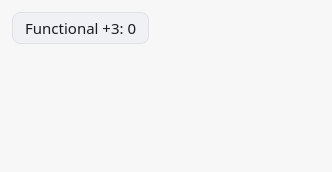
Test: functional state updates › updater functions chain: +3 is +3
Click the button. click: click(80, 28)
box: [12, 12, 149, 44]
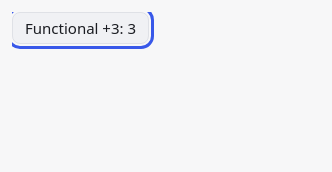
Click the button. click: click(80, 28)
box: [12, 12, 149, 44]
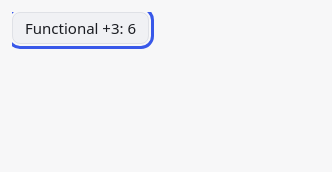
Expected: the button reads "Functional +3: 6", [12, 12, 149, 44]
